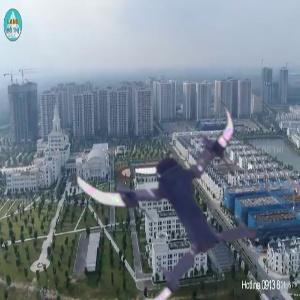drone: (80, 95, 274, 289)
